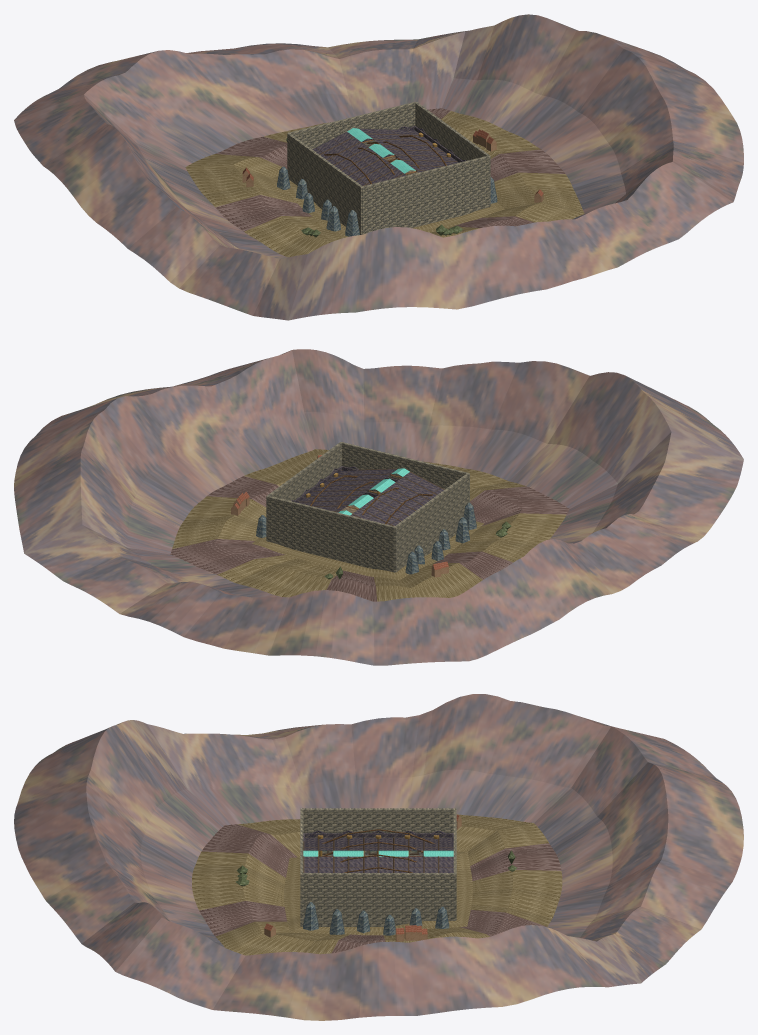
The model's file is MouldLoft.fbx.
3 views of the same model, one above another, from view 1: azimuth 30°, elevation 25°; view 2: azimuth 150°, elevation 25°; view 3: azimuth 270°, elevation 25° (orthographic). The views are drawn at different scales.
Parts seen in each view (by area): view 1: Surroundings, C_Solids, Rim, Horizon; view 2: Surroundings, C_Solids, Rim, Horizon; view 3: Surroundings, C_Solids, Rim, Horizon.
Boxes of the visible parts, x1=… form: Surroundings: x1=14, y1=14, x2=743, y2=320; C_Solids: x1=287, y1=101, x2=490, y2=234; Rim: x1=312, y1=126, x2=465, y2=186; Horizon: x1=277, y1=166, x2=497, y2=236; Surroundings: x1=14, y1=349, x2=743, y2=665; C_Solids: x1=266, y1=442, x2=469, y2=572; Rim: x1=291, y1=466, x2=444, y2=526; Horizon: x1=256, y1=502, x2=476, y2=574; Surroundings: x1=14, y1=694, x2=743, y2=1020; C_Solids: x1=300, y1=808, x2=456, y2=926; Rim: x1=303, y1=829, x2=453, y2=872; Horizon: x1=303, y1=902, x2=449, y2=935.
Size of the model in its own units: 19041 by 3156 by 19439.
